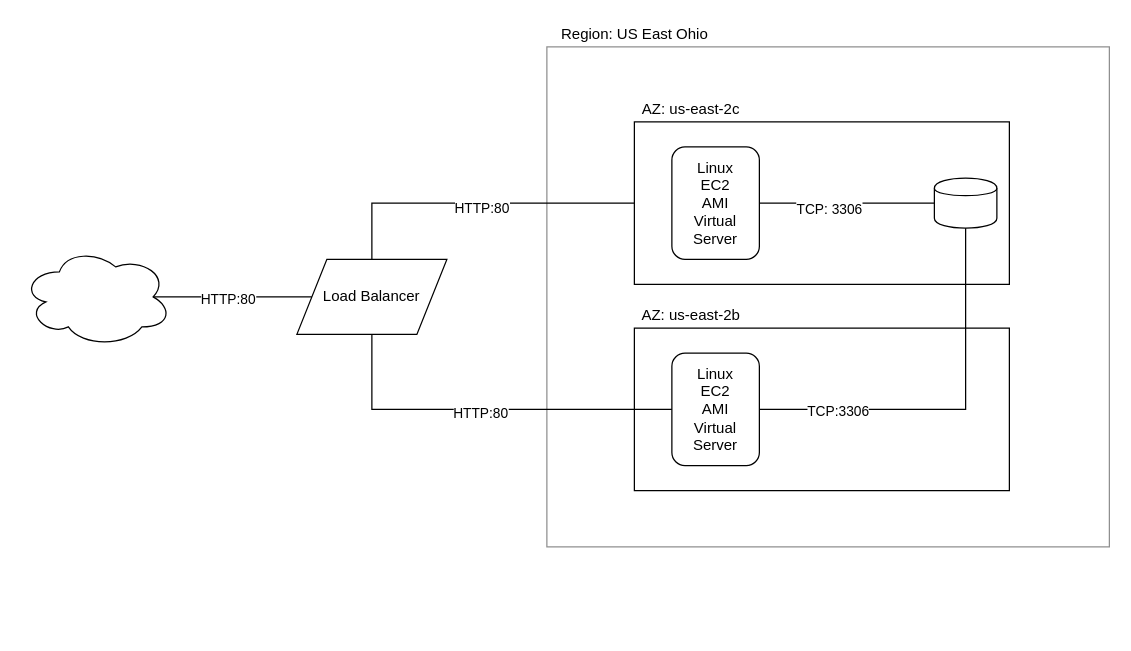
The diagram is 1131 pixels wide and 651 high, and some of its shapes have lost their labels. Each missing label, with the centre of its shape:
"mysql" goes at [965,202].
"Public Internet" goes at [96,296].
